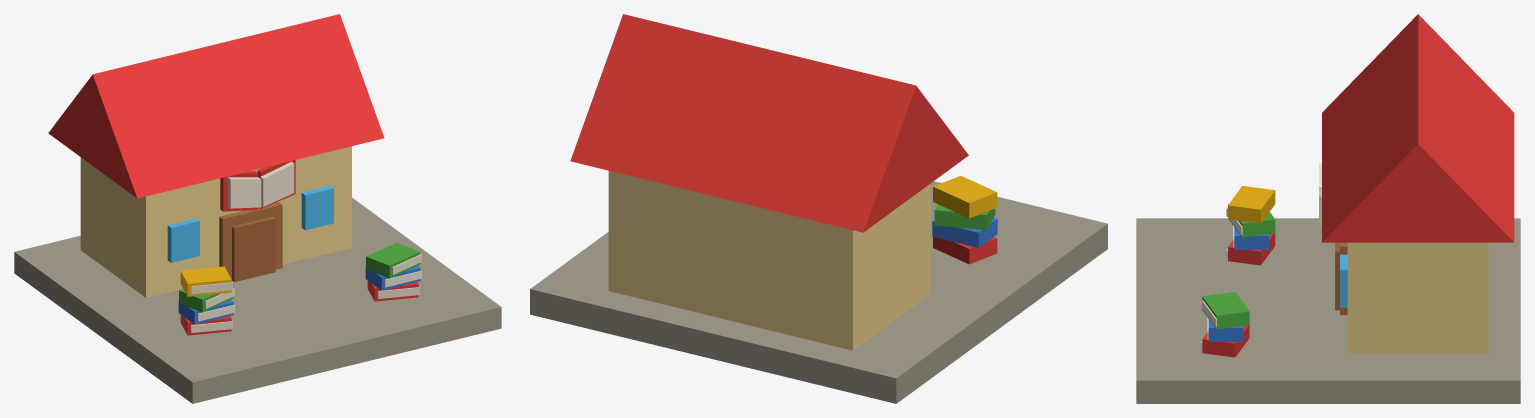
The model's file is library_t1_v1.glb.
3 renders of one model, left to right at view 1: azimuth 30°, elevation 25°; view 2: azimuth 150°, elevation 25°; view 3: azimuth 270°, elevation 25°, orthographic. The views are drawn at different scales.
Parts seen in each view (by area): view 1: library_t1_v1; view 2: library_t1_v1; view 3: library_t1_v1.
Part boxes in pixels (<box>): library_t1_v1: <box>14,14,501,403</box>; library_t1_v1: <box>530,14,1107,403</box>; library_t1_v1: <box>1136,14,1520,403</box>.
Bounding box in the file's own units: 0.6 × 0.42 × 0.6.
Materials: 1 (1 with a texture image).
